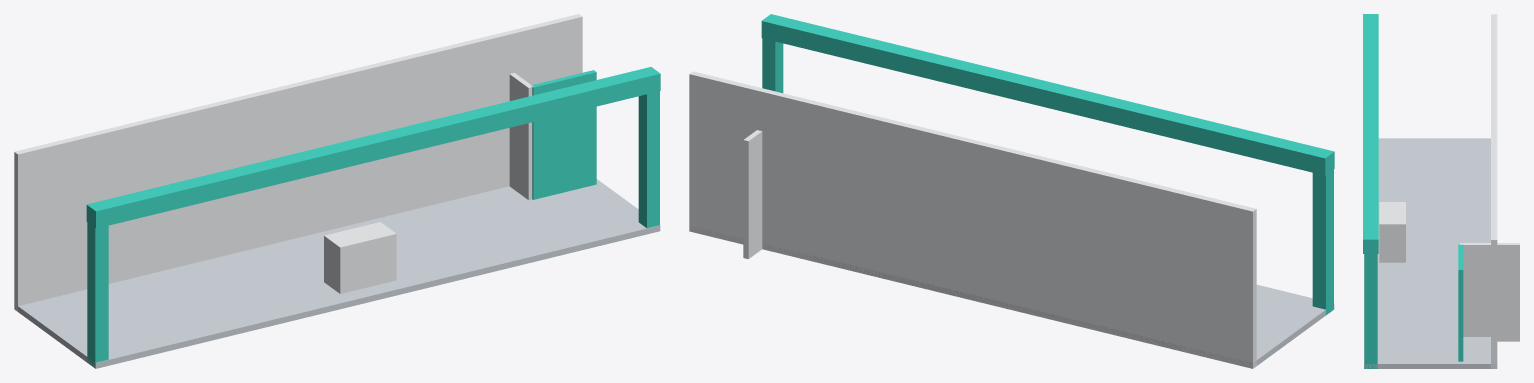
The picture shows the model from 3 angles, left to right: view 1: azimuth 30°, elevation 25°; view 2: azimuth 150°, elevation 25°; view 3: azimuth 270°, elevation 25°; orthographic projection. The views are drawn at different scales.
Parts seen in each view (by area): view 1: Exhibition Booth Concept; view 2: Exhibition Booth Concept; view 3: Exhibition Booth Concept.
Boxes of the visible parts, box(x1,y1,x2,y2) form: Exhibition Booth Concept: box(14, 14, 660, 368); Exhibition Booth Concept: box(689, 14, 1334, 368); Exhibition Booth Concept: box(1363, 14, 1519, 368).
Bounding box in the file's own units: 12 × 3.2 × 3.52.
